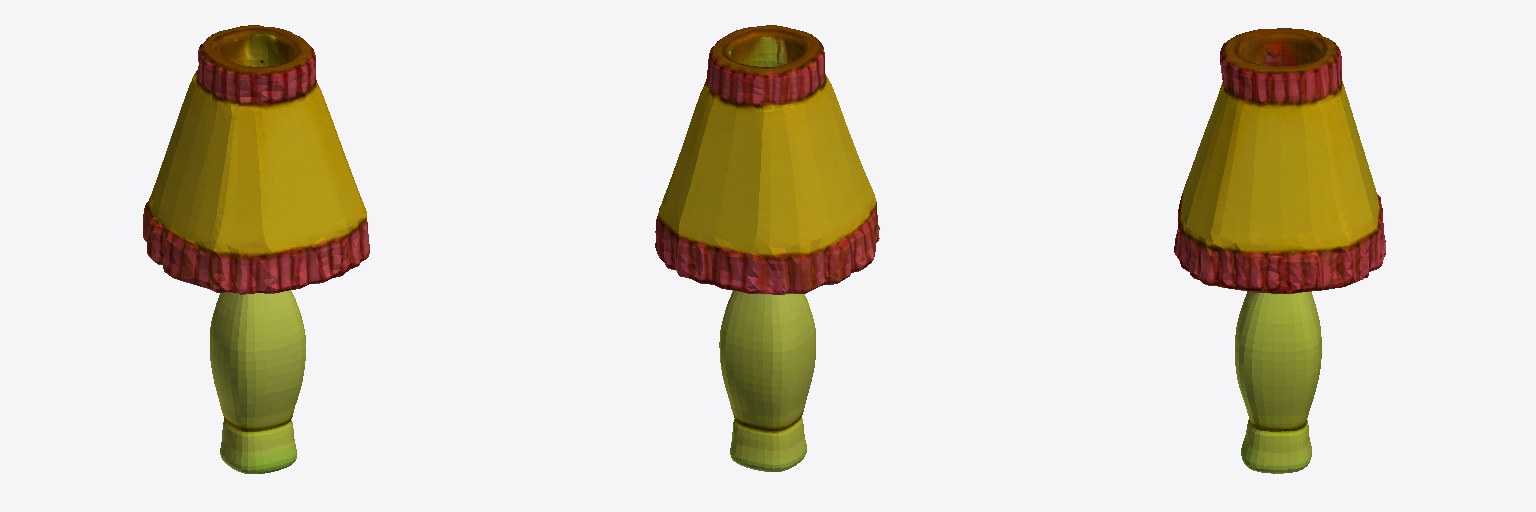
3 views of the same model, side by side, from view 1: azimuth 30°, elevation 25°; view 2: azimuth 150°, elevation 25°; view 3: azimuth 270°, elevation 25° (orthographic).
Visible parts, largest first — view 1: tripo_node_bb38ab4d_4a79_42a1_bab8_fe36ff9df322; view 2: tripo_node_bb38ab4d_4a79_42a1_bab8_fe36ff9df322; view 3: tripo_node_bb38ab4d_4a79_42a1_bab8_fe36ff9df322.
Part boxes in pixels (bbox=[...]): tripo_node_bb38ab4d_4a79_42a1_bab8_fe36ff9df322: bbox=[143, 25, 369, 473]; tripo_node_bb38ab4d_4a79_42a1_bab8_fe36ff9df322: bbox=[655, 25, 879, 471]; tripo_node_bb38ab4d_4a79_42a1_bab8_fe36ff9df322: bbox=[1174, 28, 1385, 473].
Bounding box in the file's own units: 0.451 × 0.9479 × 0.4386.
Materials: 1 (1 with a texture image).